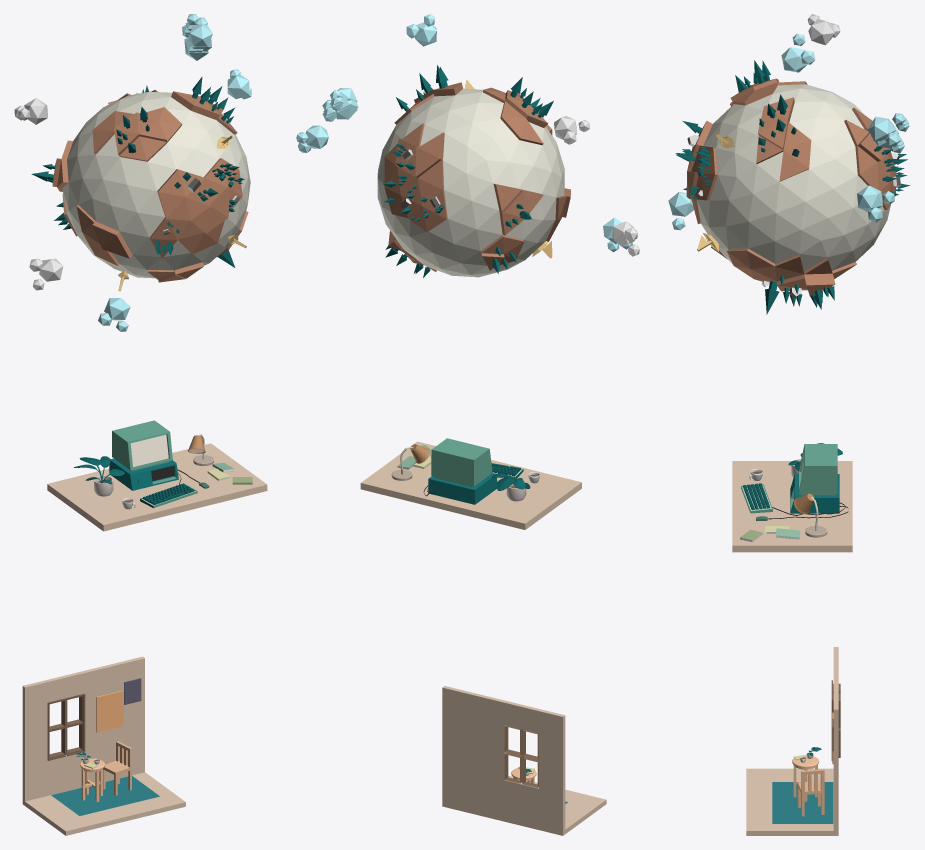
Rendered from globetest8.glb.
3 views of the same model, side by side, from view 1: azimuth 30°, elevation 25°; view 2: azimuth 150°, elevation 25°; view 3: azimuth 270°, elevation 25° (orthographic). The views are drawn at different scales.
Parts seen in each view (by area): view 1: Icosphere.001, Plane.005, Icosphere, Plane.003, Plane.004, Plane.079, Plane.008, Plane.007, Plane.001, Cube.005, tabletops.001, Cube.003 (+5 smaller); view 2: Icosphere.001, Plane.005, Icosphere, Plane.003, Plane.004, Plane.079, Plane.001, Plane.007, Icosphere.020, Icosphere.003, Icosphere.007, tabletops.001; view 3: Icosphere.001, Icosphere, Plane.003, Plane.005, Plane.079, Plane.008, Plane.004, Icosphere.020, Plane.001, Cube.003, Icosphere.003, Icosphere.007 (+5 smaller).
Boxes of the visible parts, left/top/right/bottom form: Icosphere.001: left=62, top=91, right=250, bottom=278; Plane.005: left=22, top=656, right=185, bottom=835; Icosphere: left=52, top=89, right=248, bottom=282; Plane.003: left=47, top=443, right=267, bottom=531; Plane.004: left=112, top=420, right=172, bottom=471; Plane.079: left=31, top=77, right=244, bottom=267; Plane.008: left=51, top=776, right=159, bottom=815; Plane.007: left=47, top=693, right=85, bottom=760; Plane.001: left=109, top=458, right=178, bottom=490; Cube.005: left=96, top=690, right=123, bottom=732; tabletops.001: left=74, top=456, right=124, bottom=496; Cube.003: left=103, top=741, right=131, bottom=795; Icosphere.001: left=377, top=88, right=564, bottom=277; Plane.005: left=442, top=686, right=606, bottom=835; Icosphere: left=384, top=82, right=570, bottom=271; Plane.003: left=360, top=441, right=581, bottom=529; Plane.004: left=431, top=438, right=492, bottom=487; Plane.079: left=382, top=65, right=553, bottom=277; Plane.001: left=428, top=473, right=497, bottom=504; Plane.007: left=504, top=725, right=538, bottom=787; Icosphere.020: left=322, top=88, right=358, bottom=121; Icosphere.003: left=296, top=125, right=328, bottom=152; Icosphere.007: left=406, top=14, right=436, bottom=46; tabletops.001: left=491, top=473, right=530, bottom=501; Icosphere.001: left=696, top=84, right=890, bottom=271; Icosphere: left=686, top=78, right=896, bottom=295; Plane.003: left=732, top=461, right=852, bottom=552; Plane.005: left=746, top=647, right=838, bottom=835; Plane.079: left=675, top=60, right=910, bottom=314; Plane.008: left=772, top=782, right=833, bottom=823; Plane.004: left=798, top=444, right=837, bottom=495; Icosphere.020: left=867, top=113, right=909, bottom=153; Plane.001: left=790, top=473, right=839, bottom=513; Cube.003: left=797, top=769, right=824, bottom=816; Icosphere.003: left=857, top=185, right=894, bottom=222; Icosphere.007: left=781, top=33, right=815, bottom=72.
Bounding box in the file's own units: 3.49 × 9.14 × 2.45.
